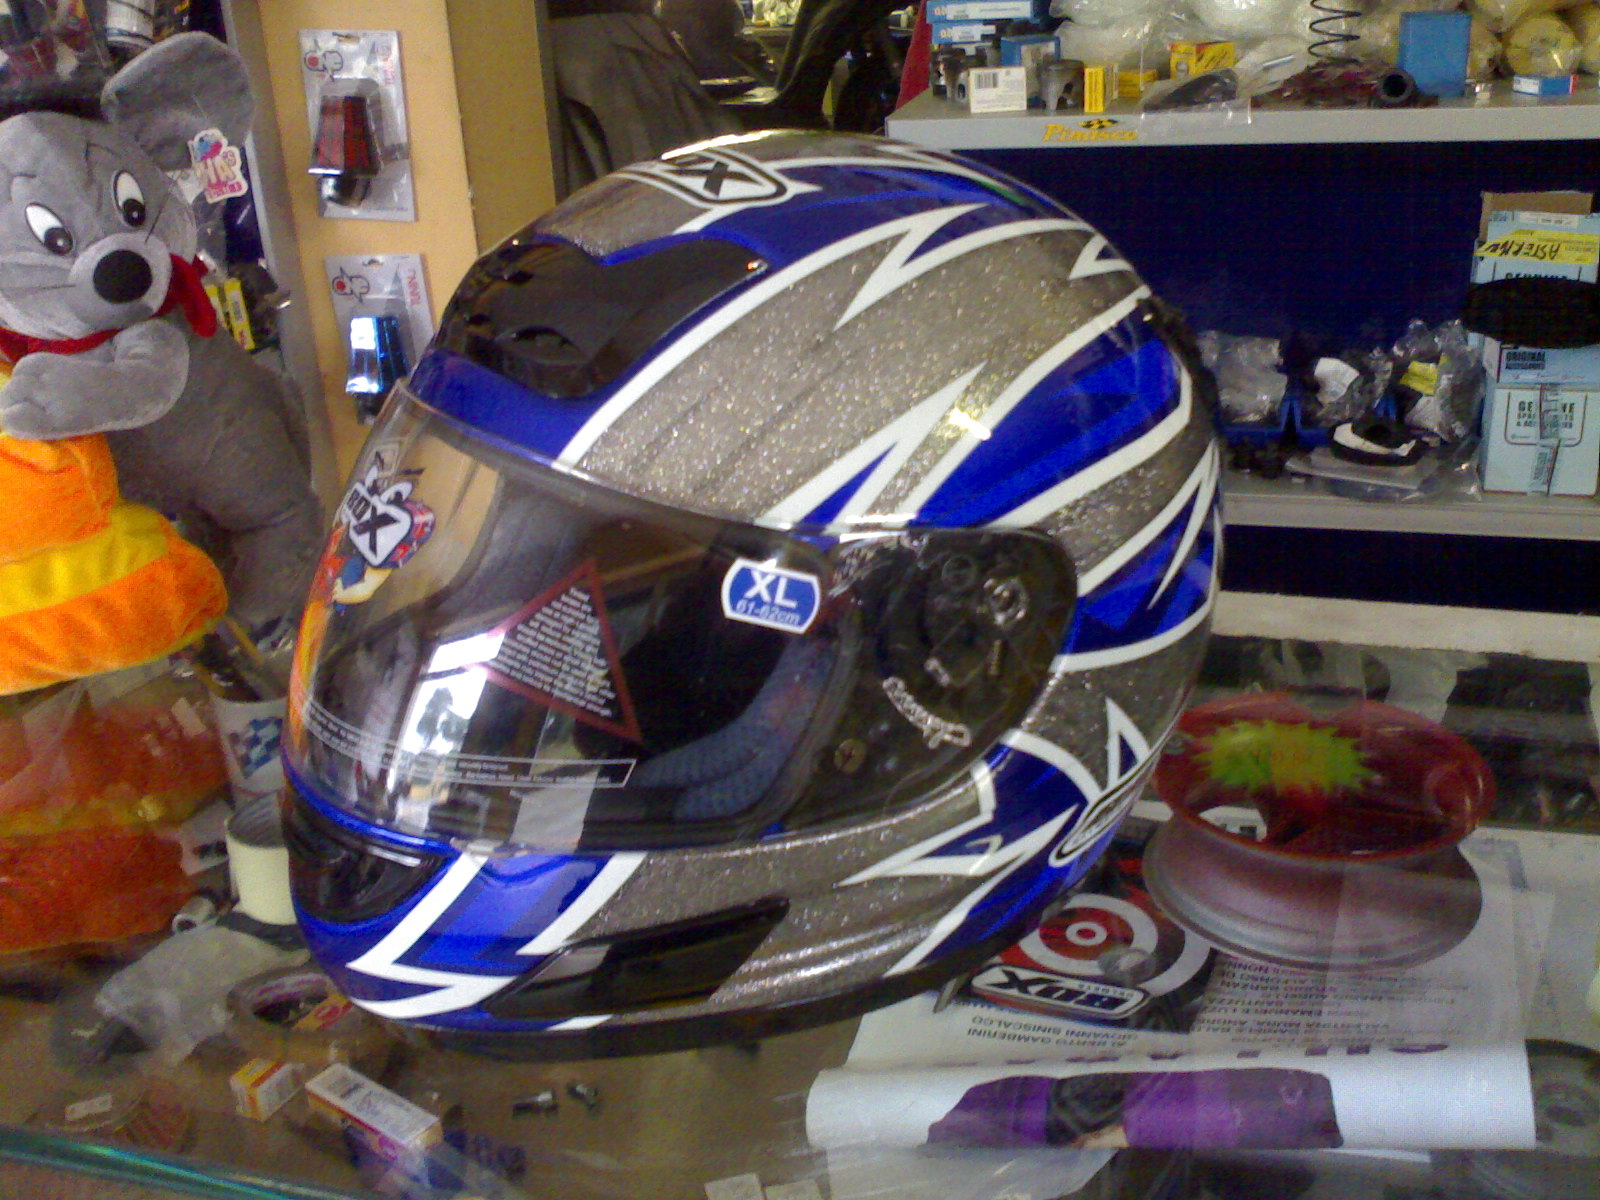helmet: (348, 147, 1235, 943)
